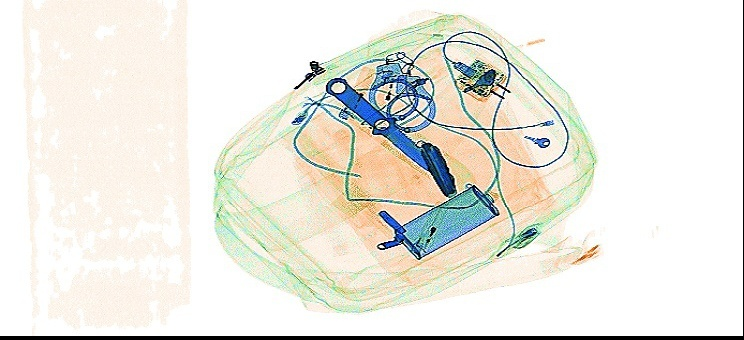handcuffs: (366, 49, 436, 133)
knife: (323, 76, 428, 170), (415, 136, 458, 198)
lighter: (407, 198, 449, 256), (337, 63, 375, 121), (369, 67, 396, 112)
zippooil: (393, 182, 500, 260)
